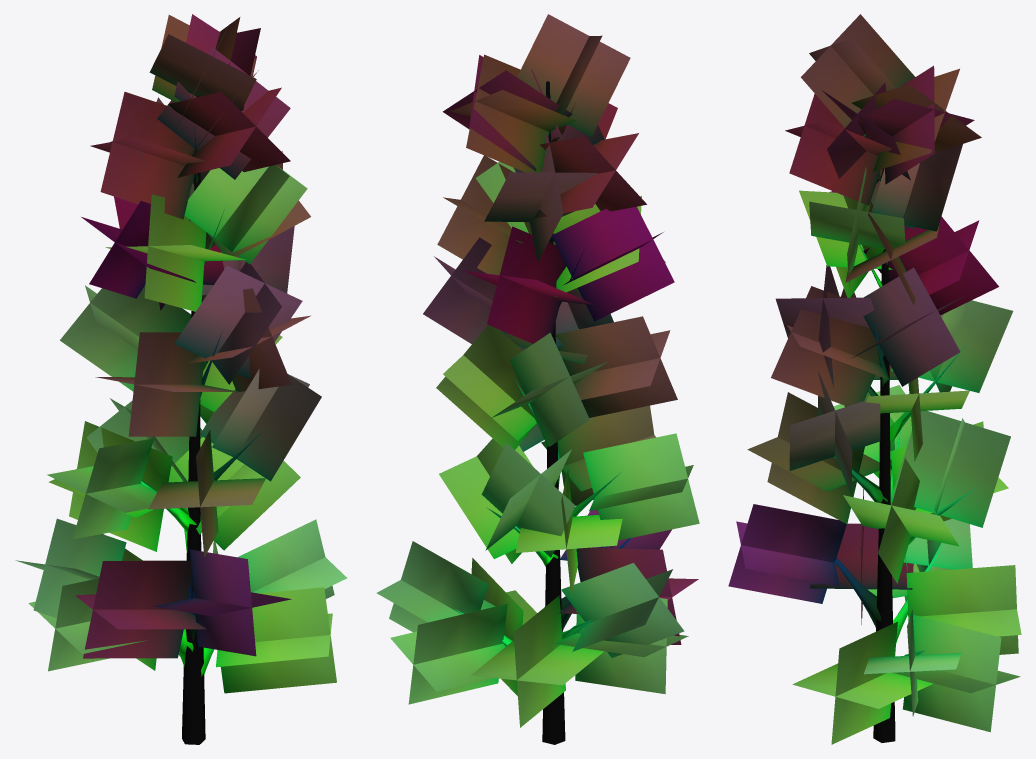
File: URP_P5_Tree_3_LOD_3.fbx
3 views of the same model, side by side, from view 1: azimuth 30°, elevation 25°; view 2: azimuth 150°, elevation 25°; view 3: azimuth 270°, elevation 25° (orthographic). The views are drawn at different scales.
Visible parts, largest first — view 1: Tree_3_LOD_3; view 2: Tree_3_LOD_3; view 3: Tree_3_LOD_3.
Boxes of the visible parts, x1=… form: Tree_3_LOD_3: x1=15, y1=14, x2=347, y2=744; Tree_3_LOD_3: x1=376, y1=14, x2=699, y2=744; Tree_3_LOD_3: x1=728, y1=14, x2=1021, y2=744.
Bounding box in the file's own units: 291 × 669 × 250.
